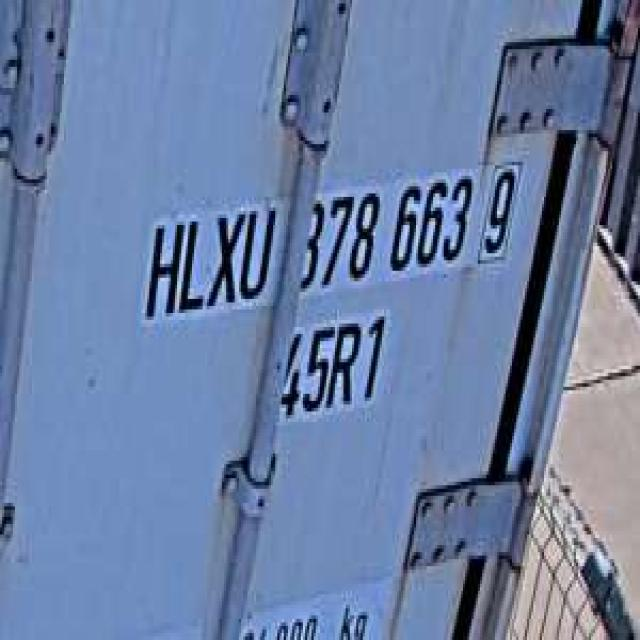dv: (478, 151, 525, 264)
owner: (134, 190, 278, 327)
serial: (294, 162, 476, 292)
size: (276, 306, 390, 422)
